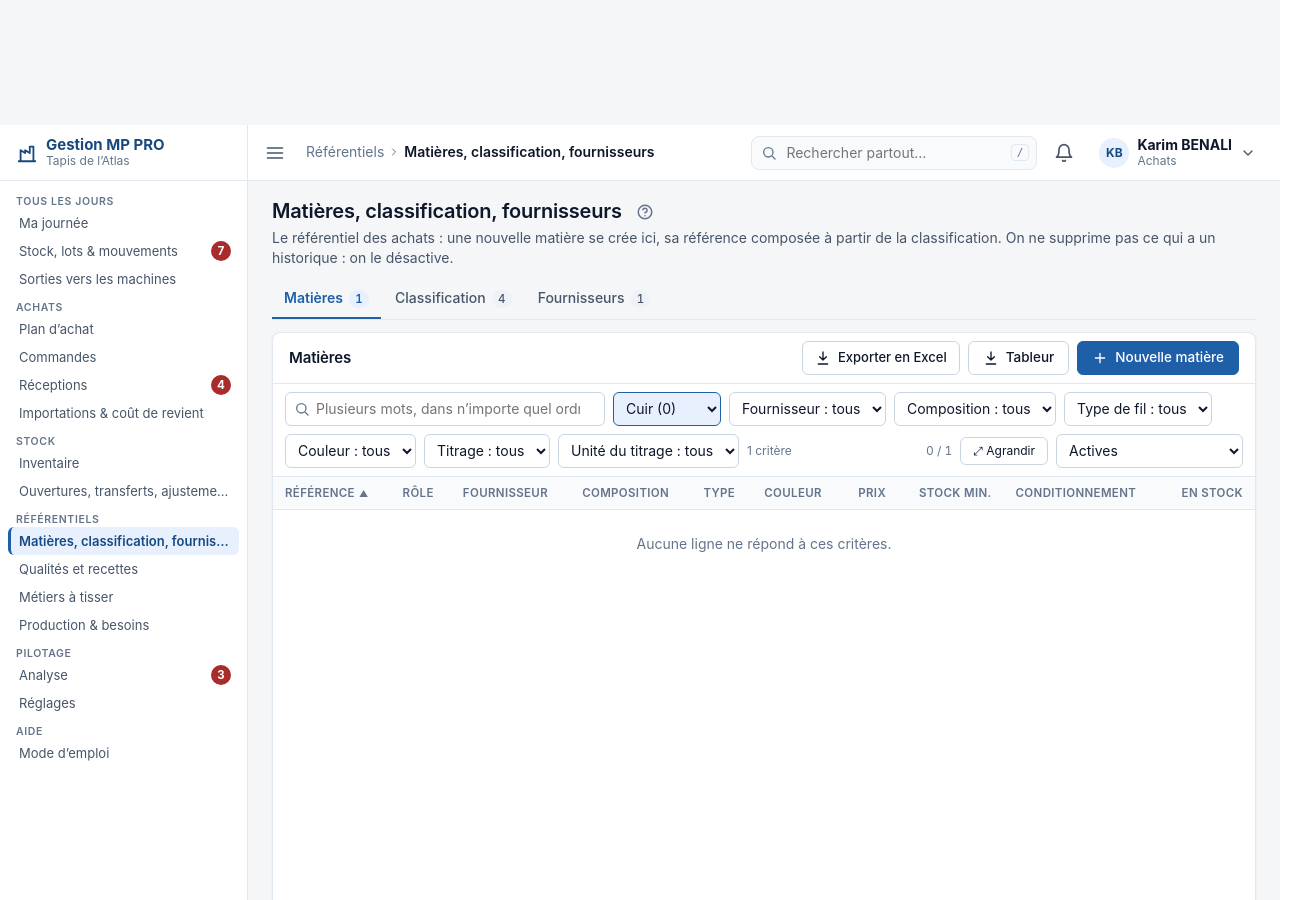
Scenario: Catalogue › l’état « Désactivées » est un critère ; « Effacer les filtres » remet tout, état compris (P7-31)
(page scrolled)
Select "Désactivées" in the dropdown named "État": [1150, 451] box 1056,434 -> 1243,468
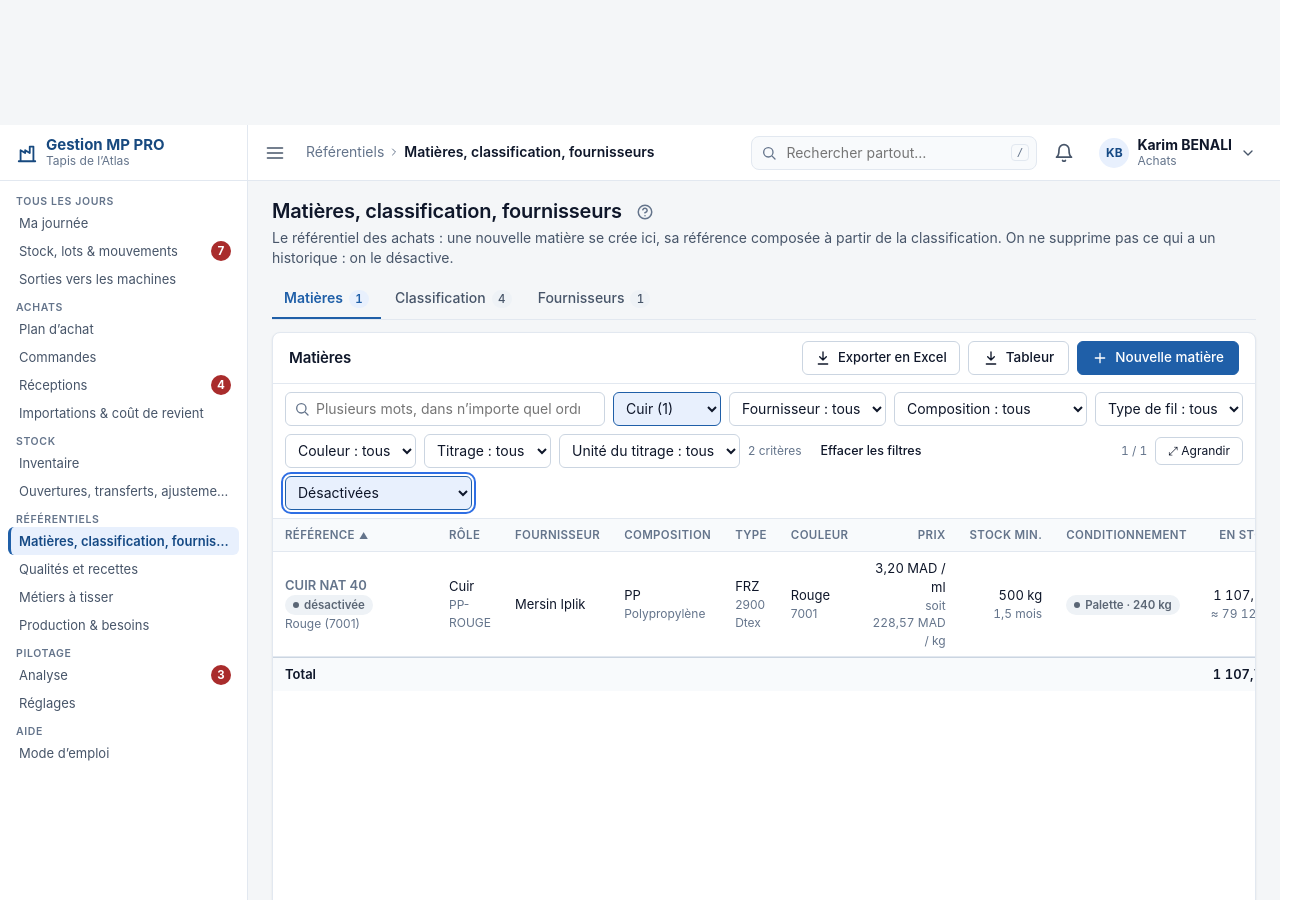
Check: the text "CUIR NAT 40" is shown, box 285,577 -> 367,593
Click the button "Effacer les filtres": [871, 451] box 810,437 -> 932,465
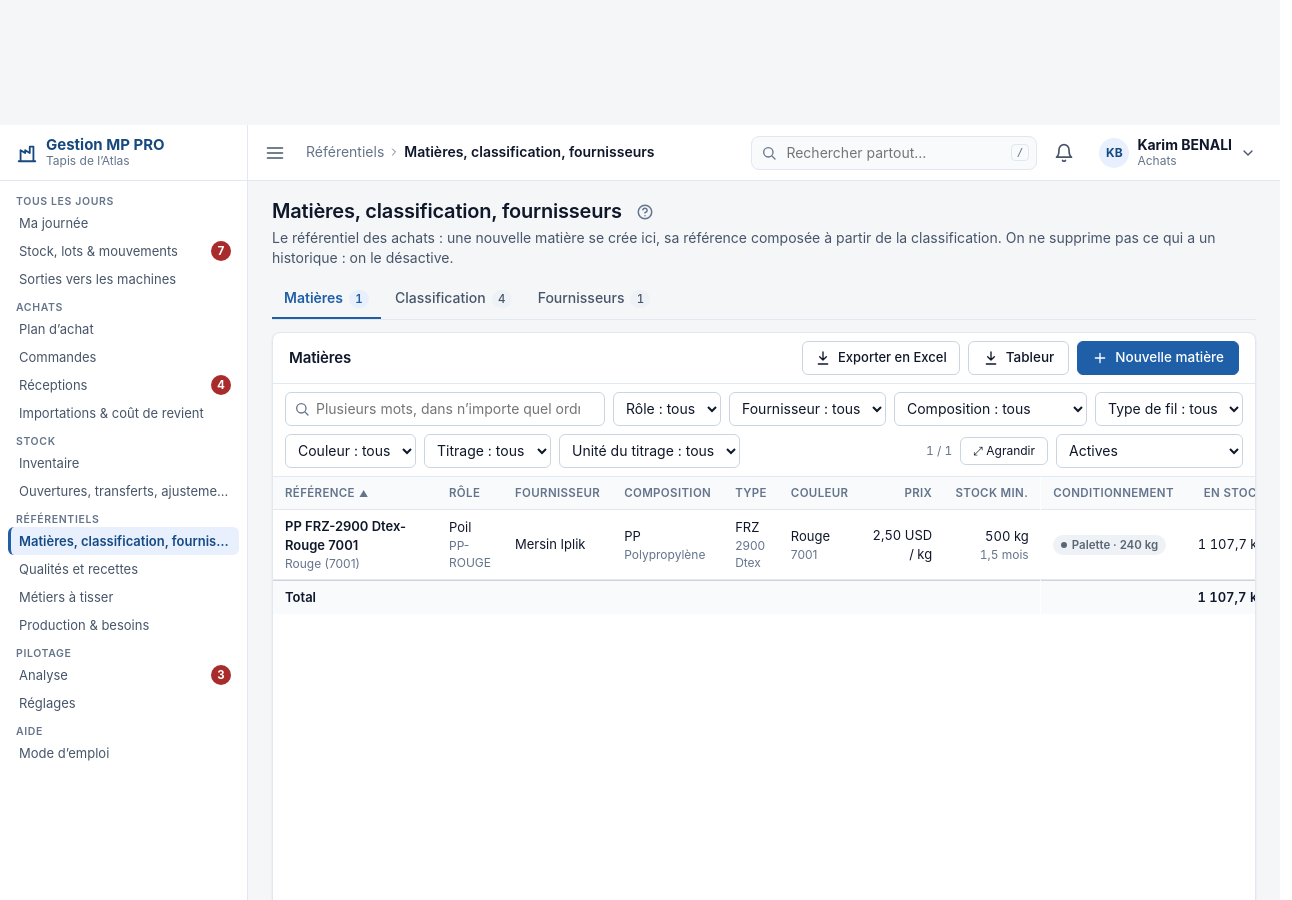
Check: the text "CUIR NAT 40" is gone
